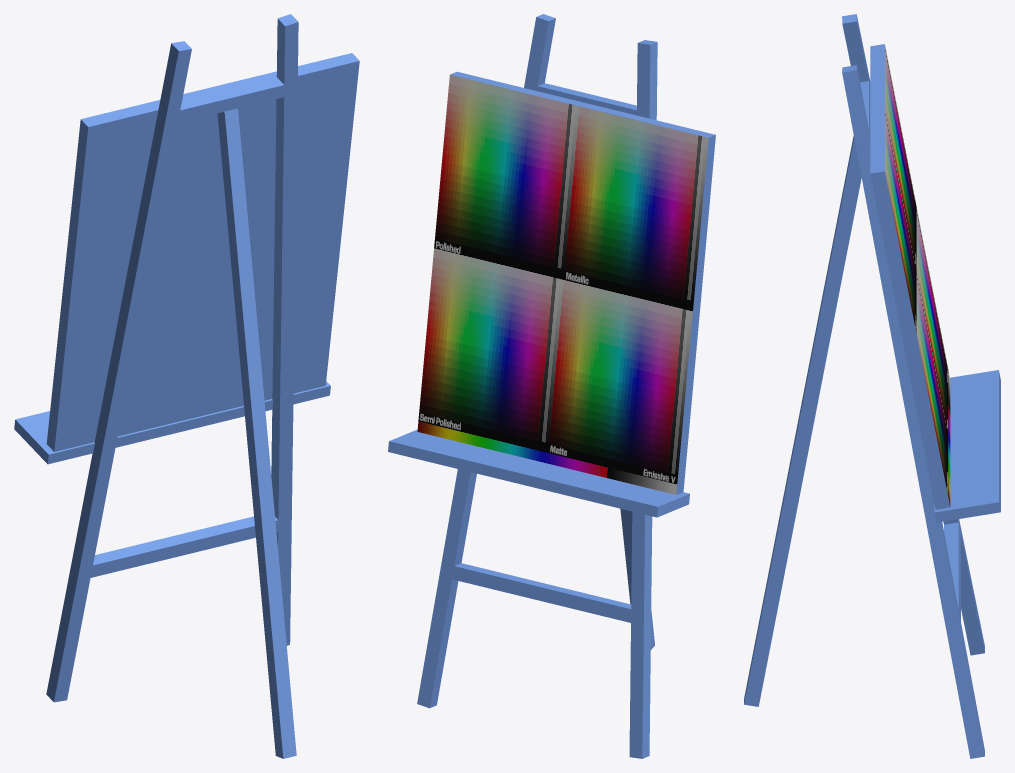
File: Easel_01.glb
The picture shows the model from 3 angles, left to right: view 1: azimuth 30°, elevation 25°; view 2: azimuth 150°, elevation 25°; view 3: azimuth 270°, elevation 25°; orthographic projection. The views are drawn at different scales.
Parts seen in each view (by area): view 1: Easel; view 2: Easel_Image, Easel; view 3: Easel, Easel_Image.
Part boxes in pixels (left/top/right/bottom): Easel: left=14, top=14, right=359, bottom=758; Easel_Image: left=417, top=74, right=708, bottom=494; Easel: left=388, top=14, right=715, bottom=758; Easel: left=744, top=14, right=1000, bottom=758; Easel_Image: left=885, top=45, right=950, bottom=506.
Bounding box in the file's own units: 0.6336 × 1.48 × 0.5195.
Materials: 2 (2 with a texture image).
